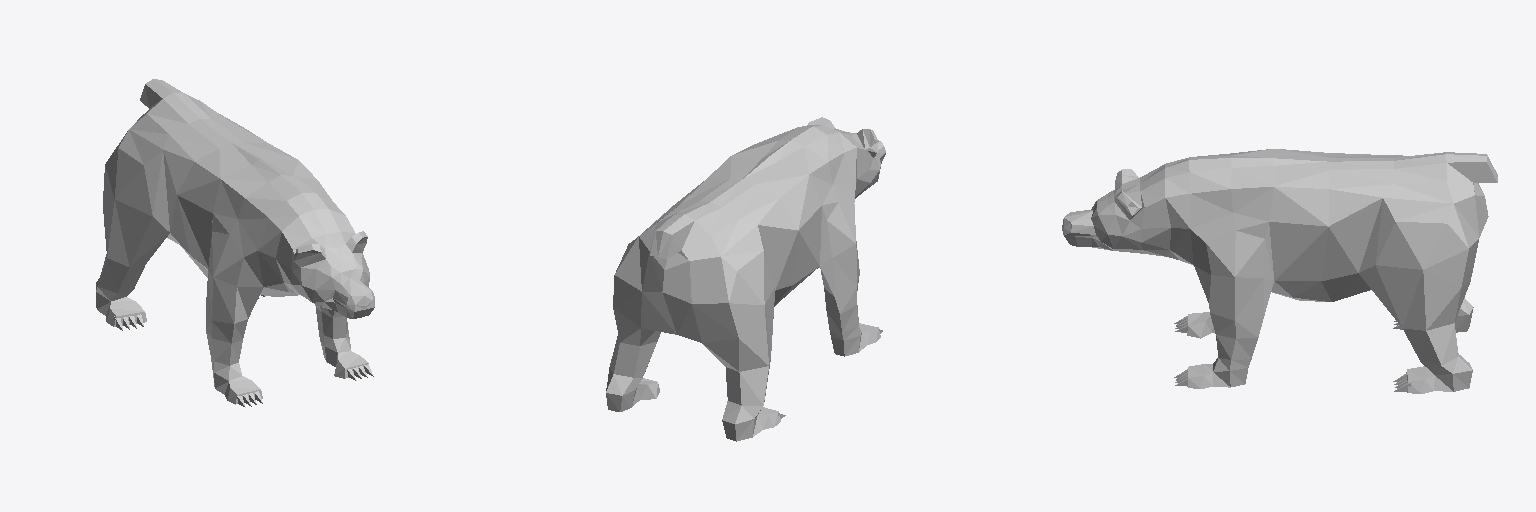
The model's file is lowpolybear13.obj.
3 renders of one model, left to right at view 1: azimuth 30°, elevation 25°; view 2: azimuth 150°, elevation 25°; view 3: azimuth 270°, elevation 25°, orthographic.
Parts seen in each view (by area): view 1: bear_l_wit_head_Cube.000; view 2: bear_l_wit_head_Cube.000; view 3: bear_l_wit_head_Cube.000.
Boxes of the visible parts, box(x1,y1,x2,y2) form: bear_l_wit_head_Cube.000: box(96, 79, 374, 407); bear_l_wit_head_Cube.000: box(606, 117, 885, 441); bear_l_wit_head_Cube.000: box(1062, 149, 1497, 393).
Size of the model in its own units: 0.8139 by 1.02 by 1.97.